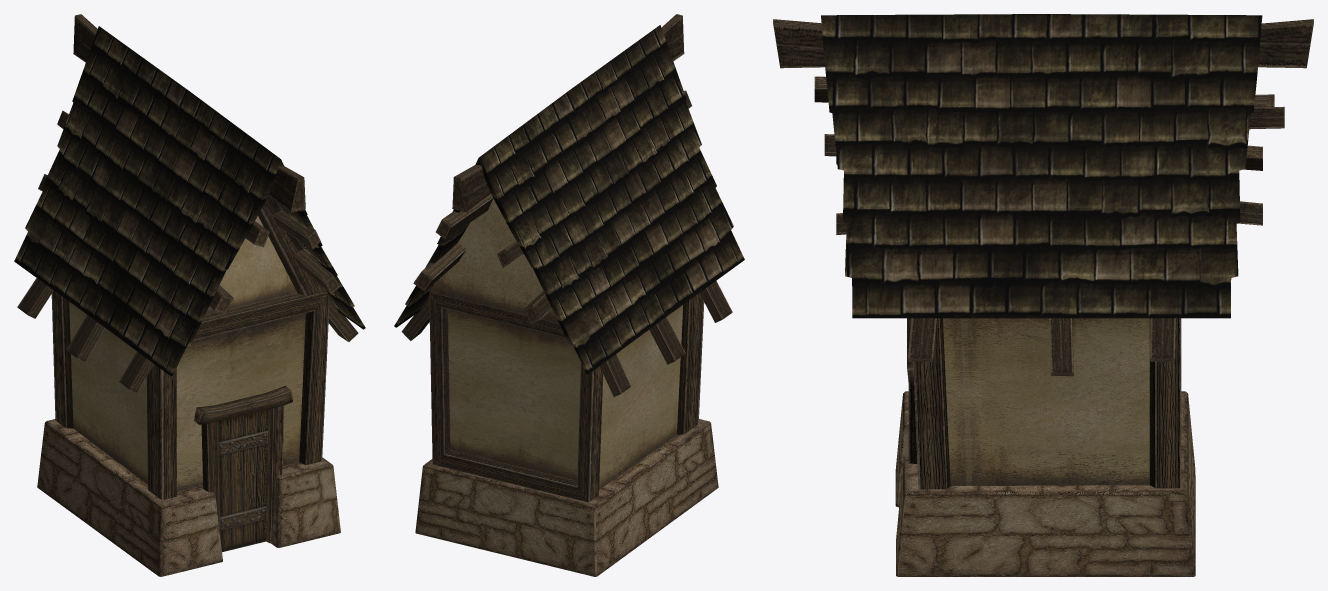
File: House_Small_04.fbx
The picture shows the model from 3 angles, left to right: view 1: azimuth 30°, elevation 25°; view 2: azimuth 150°, elevation 25°; view 3: azimuth 270°, elevation 25°; orthographic projection. The views are drawn at different scales.
Parts seen in each view (by area): view 1: House_Small_04; view 2: House_Small_04; view 3: House_Small_04.
Boxes of the visible parts, x1,y1,x2,y2 form: House_Small_04: [14, 14, 365, 576]; House_Small_04: [394, 14, 744, 576]; House_Small_04: [773, 14, 1313, 576].
Bounding box in the file's own units: 4.89 × 8.43 × 8.12.
